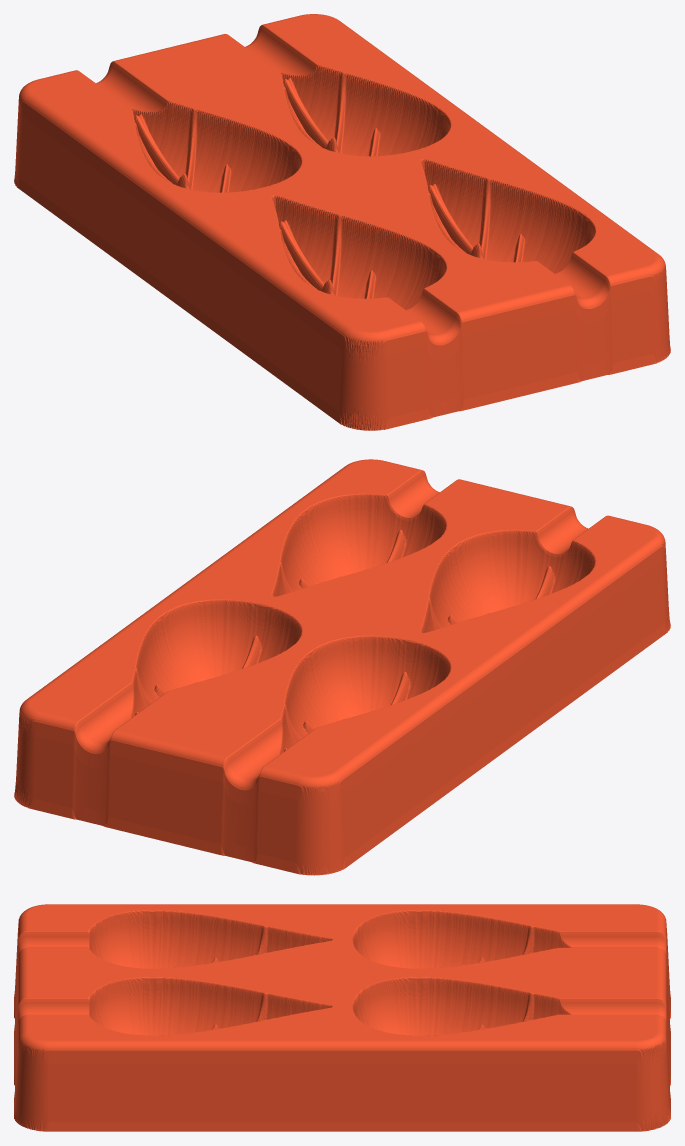
Rendered from mold.glb.
The picture shows the model from 3 angles, top to bottom: view 1: azimuth 30°, elevation 25°; view 2: azimuth 150°, elevation 25°; view 3: azimuth 270°, elevation 25°; orthographic projection. The views are drawn at different scales.
Parts seen in each view (by area): view 1: geometry_0; view 2: geometry_0; view 3: geometry_0.
Boxes of the visible parts, x1,y1,x2,y2 form: geometry_0: [14, 14, 670, 430]; geometry_0: [14, 459, 670, 875]; geometry_0: [14, 904, 670, 1131].
Size of the model in its own units: 0.0906 by 0.0245 by 0.171.
